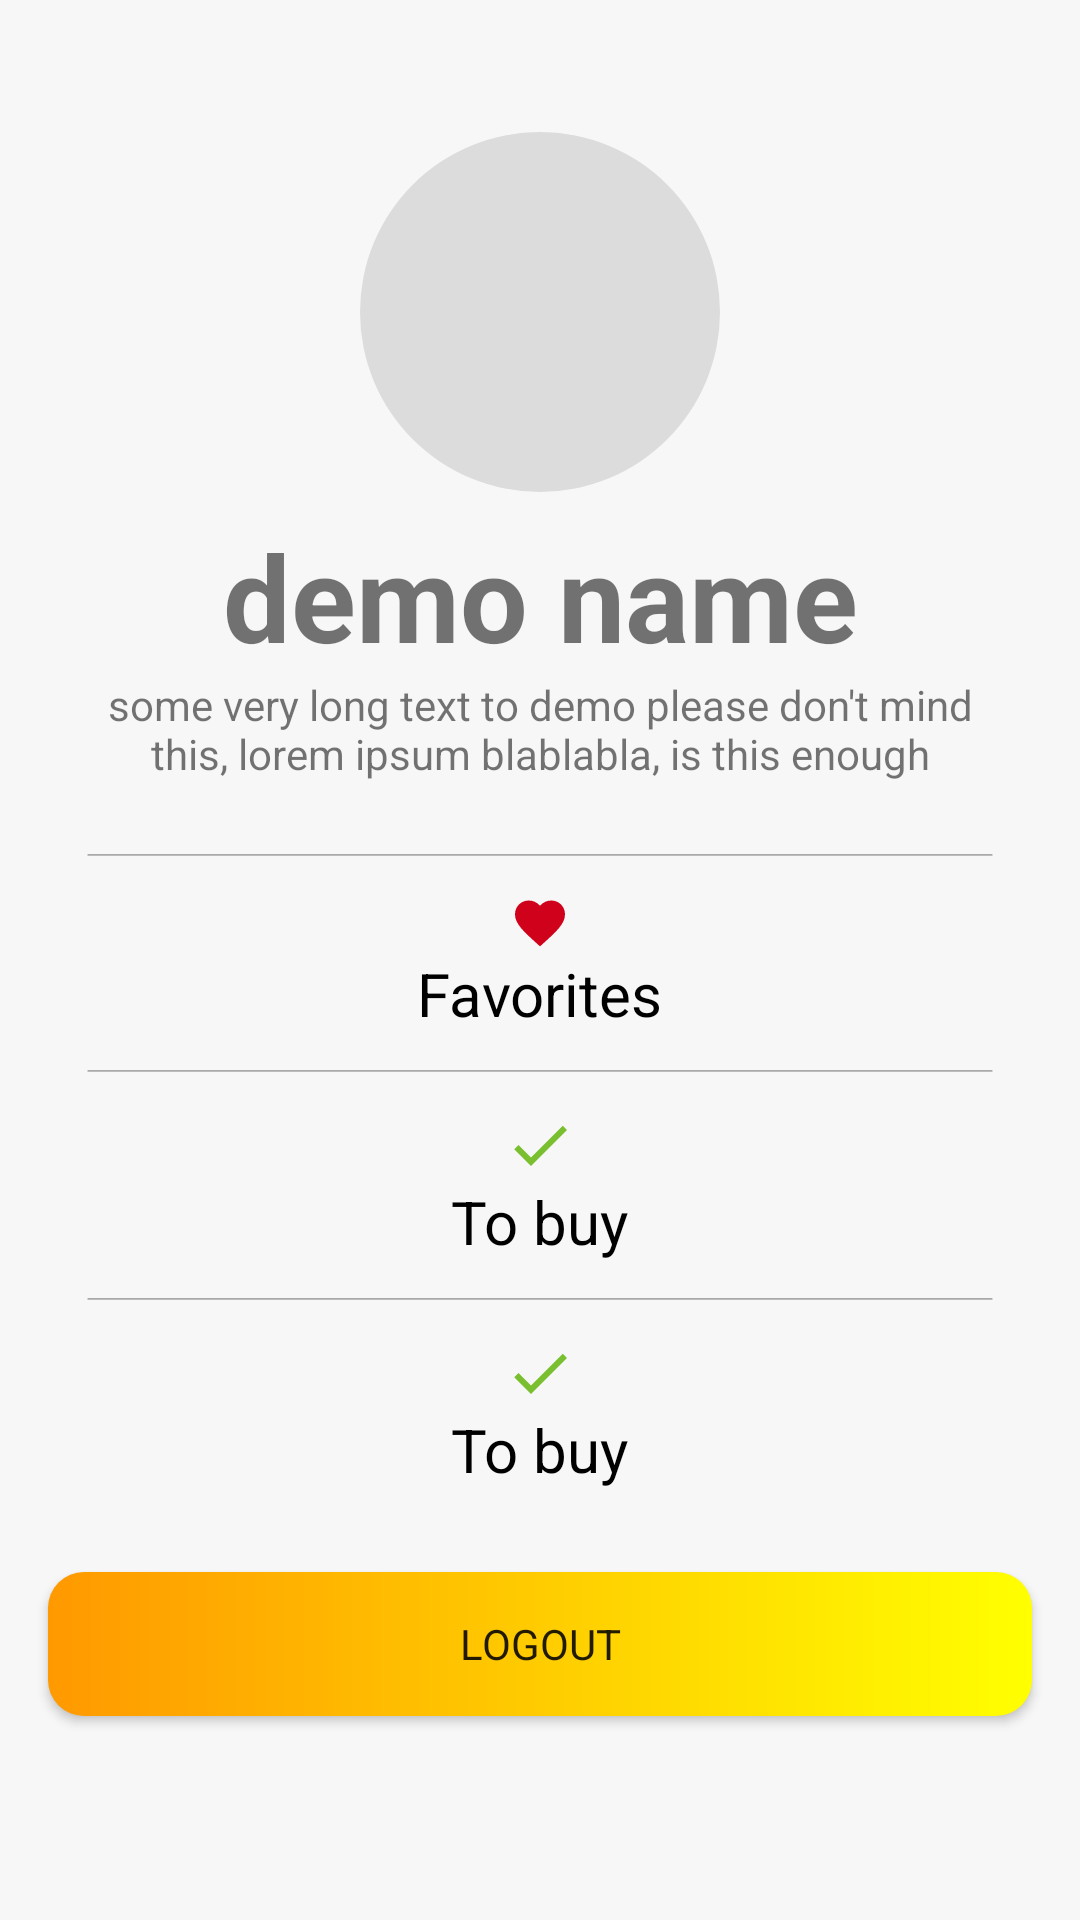

Locate icon controls on the screen. Image size 1080×1920, boxes as bbox=[x1, y1, x2, y2].
check: bbox=[514, 1126, 567, 1166], bbox=[514, 1354, 567, 1394]
